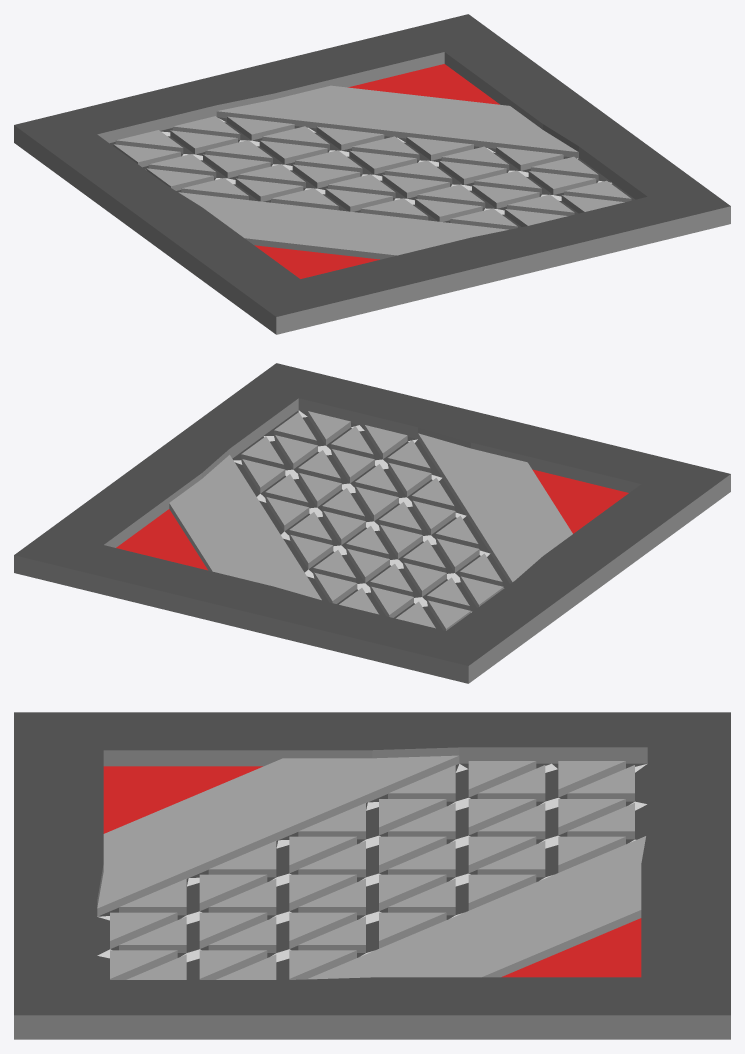
File: Panel1Large.fbx
The picture shows the model from 3 angles, top to bottom: view 1: azimuth 30°, elevation 25°; view 2: azimuth 150°, elevation 25°; view 3: azimuth 270°, elevation 25°; orthographic projection. The views are drawn at different scales.
Visible parts, largest first — view 1: Plane; view 2: Plane; view 3: Plane.
Boxes of the visible parts, x1,y1,x2,y2 form: Plane: [14, 14, 730, 334]; Plane: [14, 363, 730, 683]; Plane: [14, 712, 730, 1039].
Size of the model in its own units: 400 by 15 by 400.
